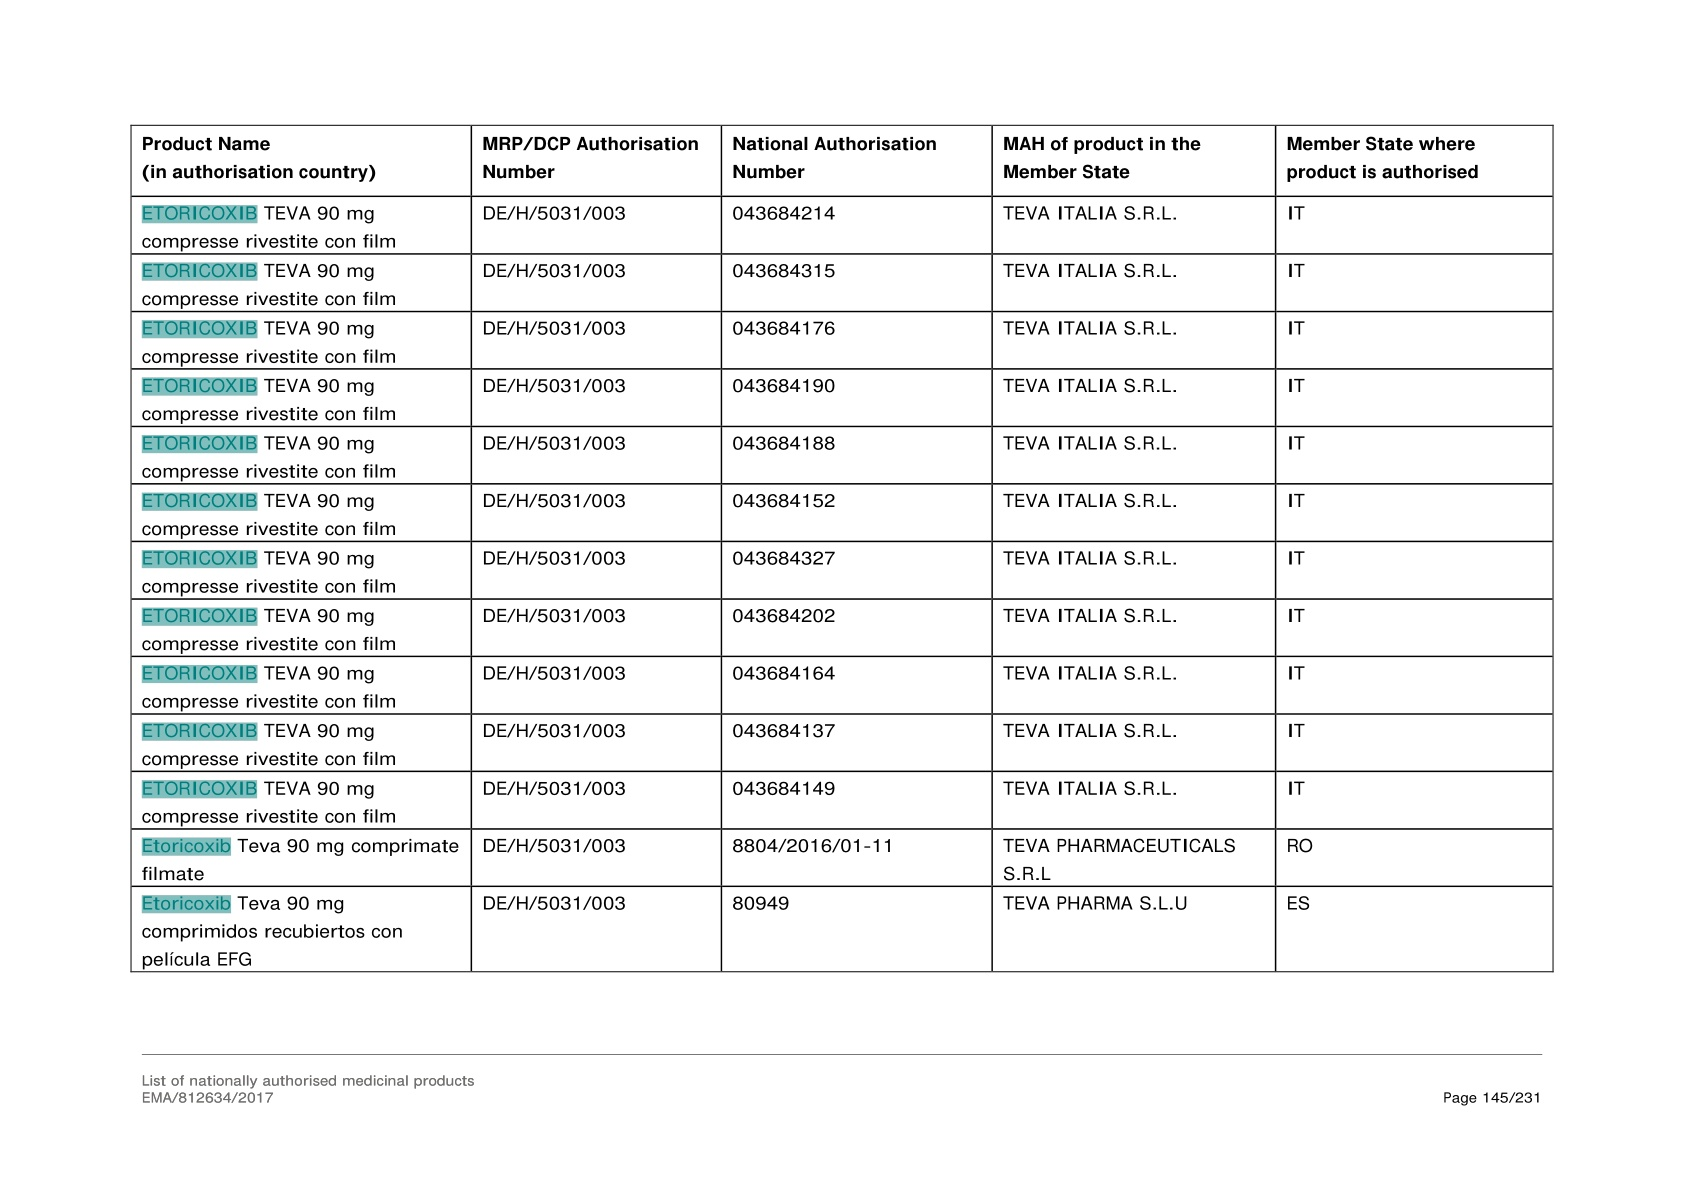full_lined: (130, 124, 1554, 973)
